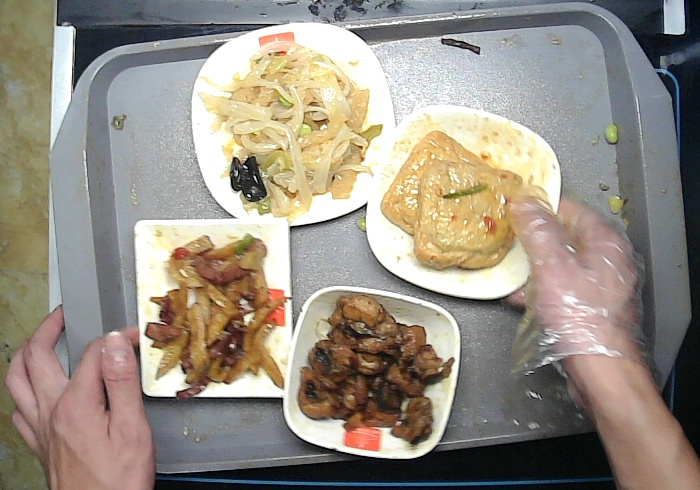SHKJ-Bai_Se_Cai_Die: (362, 100, 569, 305)
SHKJ-Bai_Se_Si_Fang_Cai_Die: (186, 18, 403, 230)
SHKJ-Bai_Se_Xiao_Fang_Die: (279, 280, 469, 462)
SHKJ-Si_Fang_Min: (128, 215, 300, 407)
